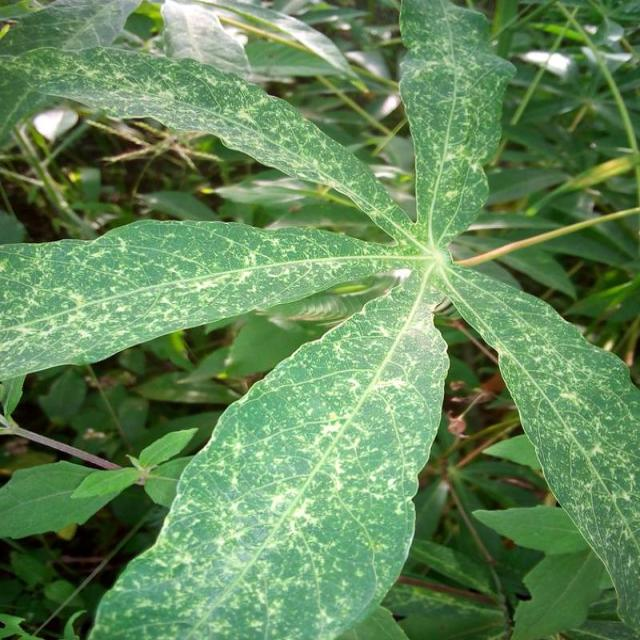cassava leaf: (2, 0, 640, 638), (86, 265, 452, 638)
